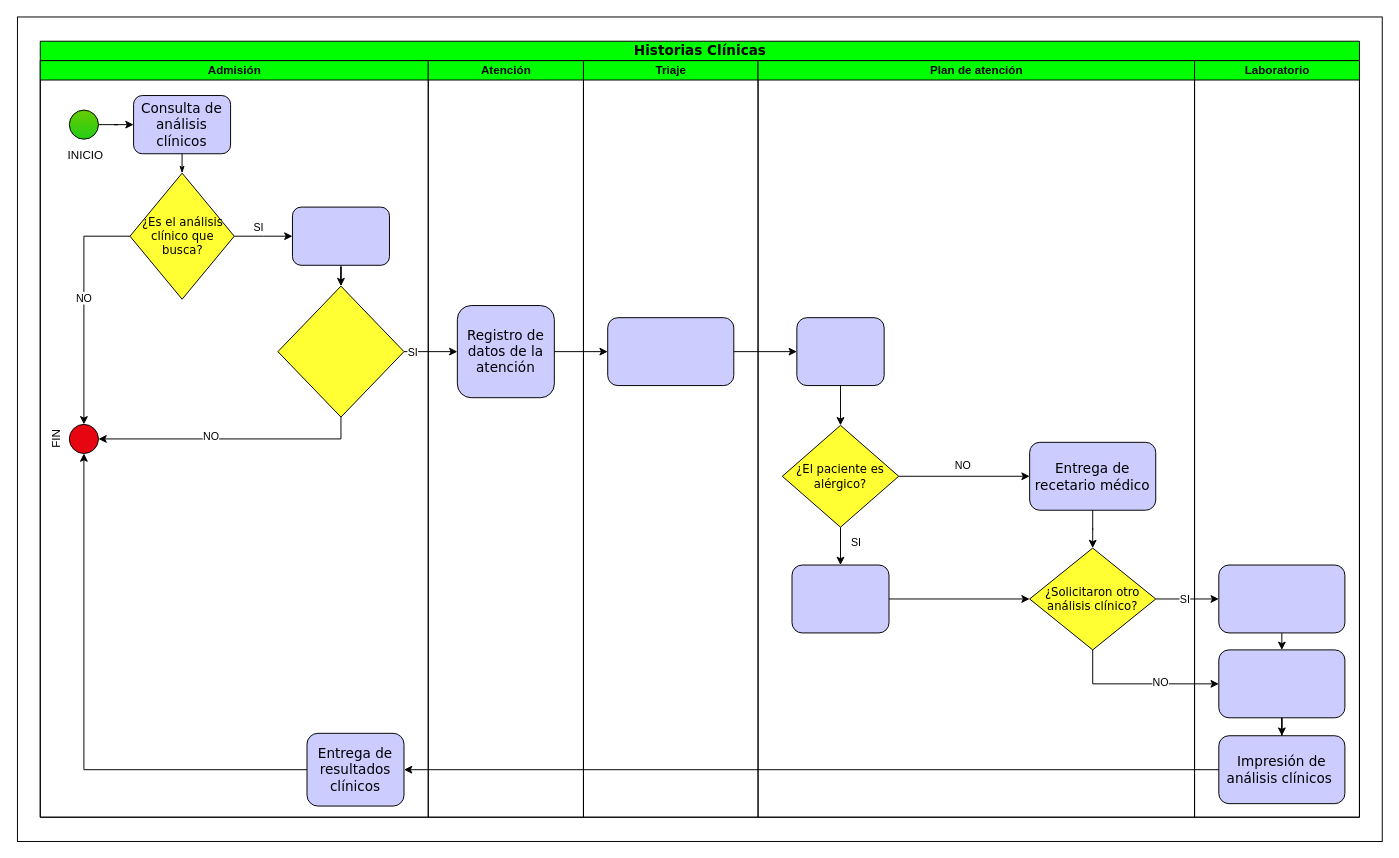
This 1399x858 diagram has some shape labels left out. The centre of each missing label's shape, as x and y in pixels:
"Entrega de receta especial" goes at point 840,598.
"Enviar pruebas al laboratorio" goes at point 1281,683.
"Obteneción de pruebas del paciente" goes at point 1281,598.
"Recolección de datos especializados en triaje" goes at point 670,351.
"Registro de datos del paciente" goes at point 340,235.
"Registro de historial clínico" goes at point 840,351.
"¿Desea pagar la atención por adelantado?" goes at point 340,351.
